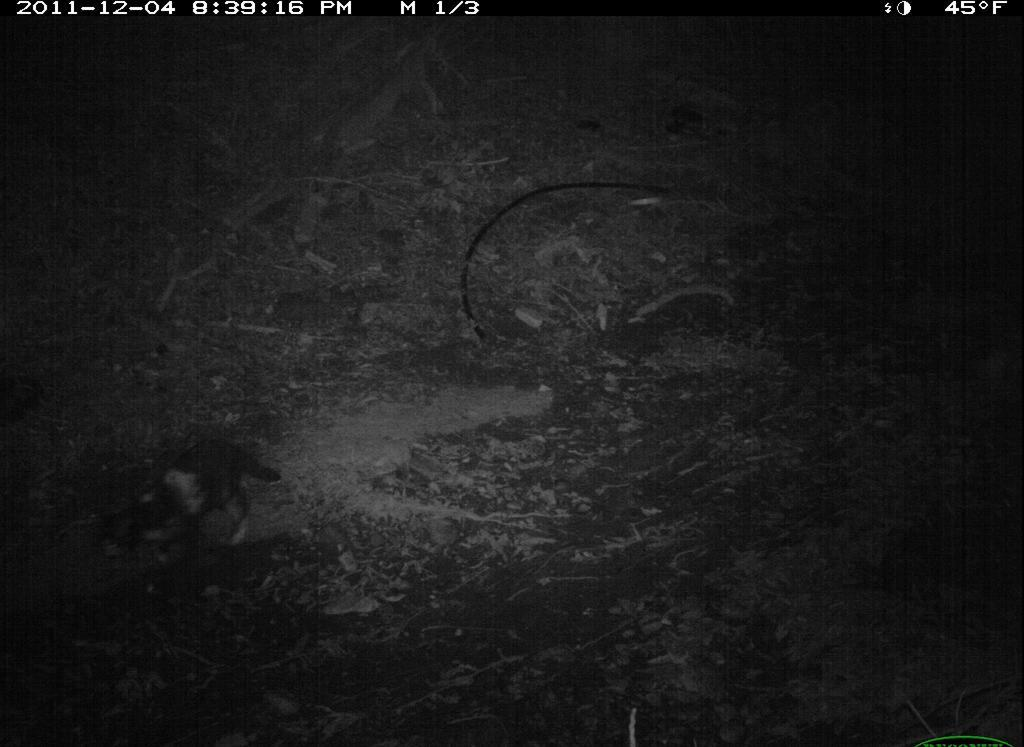cat: (81, 423, 299, 582)
